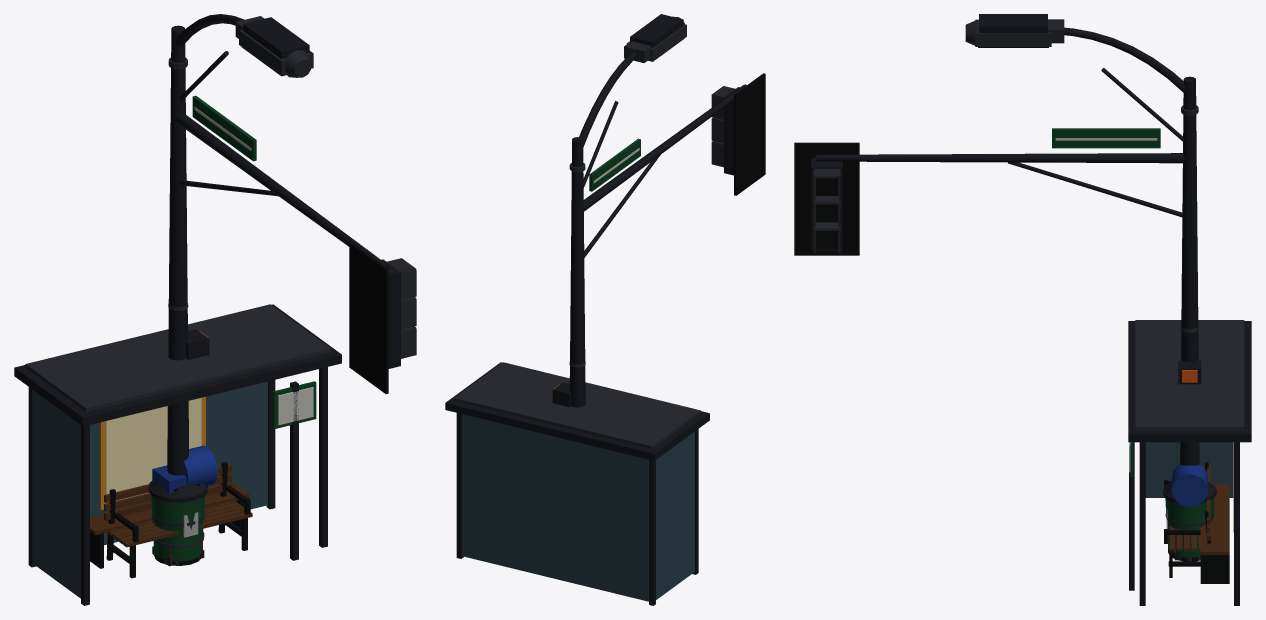
Rendered from street_kit.glb.
3 views of the same model, side by side, from view 1: azimuth 30°, elevation 25°; view 2: azimuth 150°, elevation 25°; view 3: azimuth 270°, elevation 25° (orthographic). The views are drawn at different scales.
Parts seen in each view (by area): view 1: bus_shelter, traffic_signal, street_lamp, bench, trash_can, mailbox; view 2: bus_shelter, traffic_signal, street_lamp; view 3: bus_shelter, traffic_signal, street_lamp, trash_can, mailbox, bench.
Boxes of the visible parts, x1=… form: bus_shelter: x1=14, y1=304, x2=341, y2=605; traffic_signal: x1=175, y1=95, x2=416, y2=393; street_lamp: x1=154, y1=14, x2=313, y2=565; bench: x1=104, y1=461, x2=252, y2=578; trash_can: x1=148, y1=481, x2=207, y2=565; mailbox: x1=152, y1=445, x2=217, y2=566; bus_shelter: x1=445, y1=362, x2=709, y2=605; traffic_signal: x1=552, y1=73, x2=765, y2=407; street_lamp: x1=569, y1=14, x2=686, y2=407; bus_shelter: x1=1128, y1=320, x2=1251, y2=605; traffic_signal: x1=794, y1=128, x2=1201, y2=384; street_lamp: x1=965, y1=14, x2=1200, y2=561; trash_can: x1=1163, y1=482, x2=1216, y2=561; mailbox: x1=1171, y1=464, x2=1207, y2=560; bench: x1=1164, y1=462, x2=1210, y2=577.
Size of the model in its own units: 3.7 by 8.1 by 6.3.
